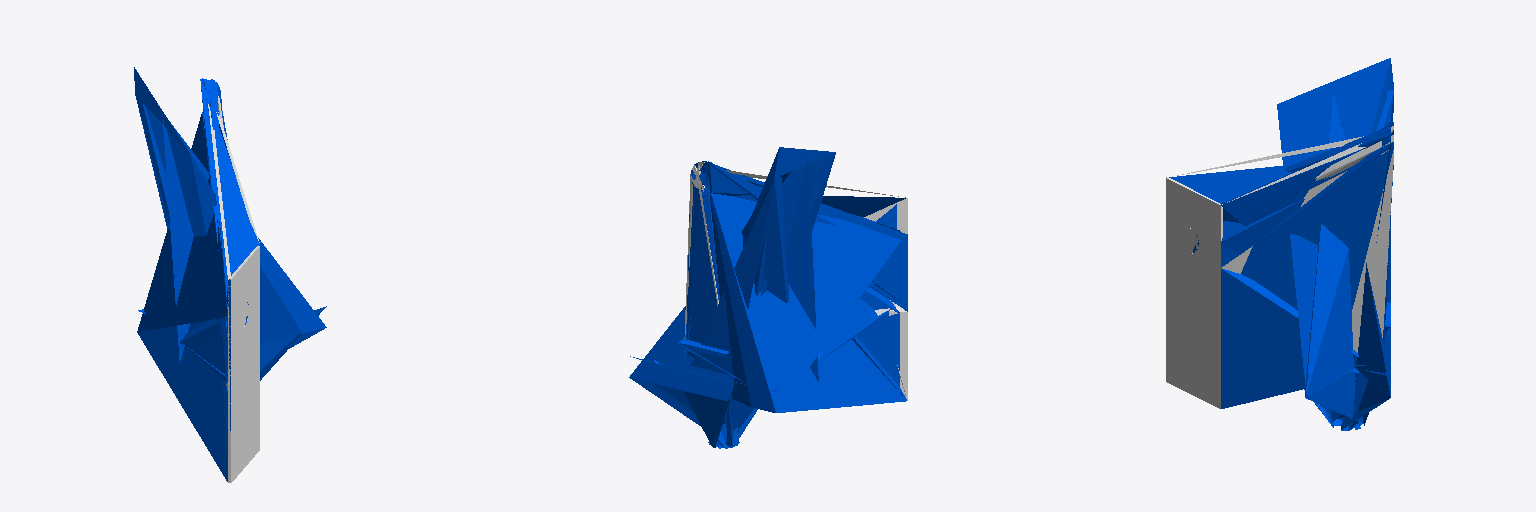
File: bathroomRendered.obj
3 views of the same model, side by side, from view 1: azimuth 30°, elevation 25°; view 2: azimuth 150°, elevation 25°; view 3: azimuth 270°, elevation 25° (orthographic).
Size of the model in its own units: 163 by 309 by 193.